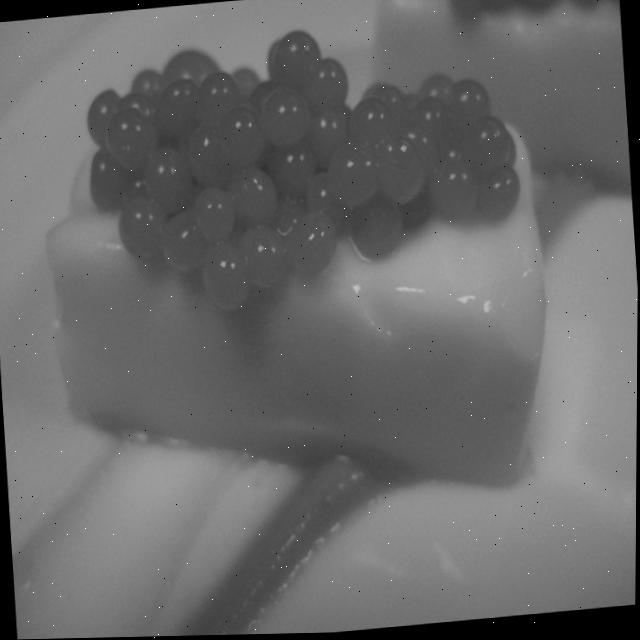蛋糕甜品: (9, 0, 568, 548)
